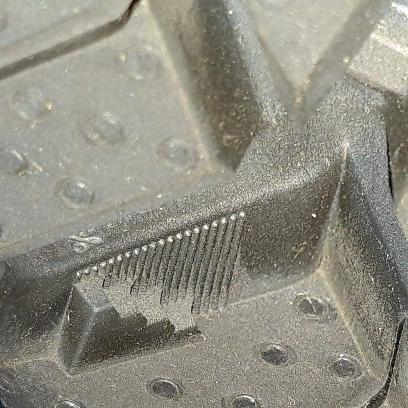temoin:100: (54, 209, 247, 379)
